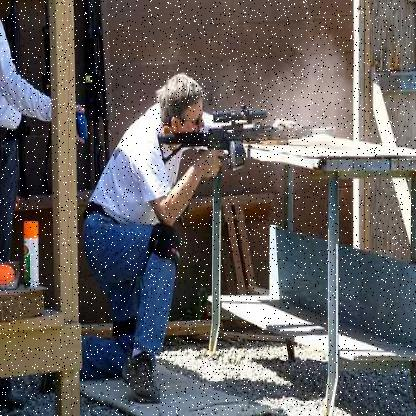rifle: (149, 96, 349, 181)
